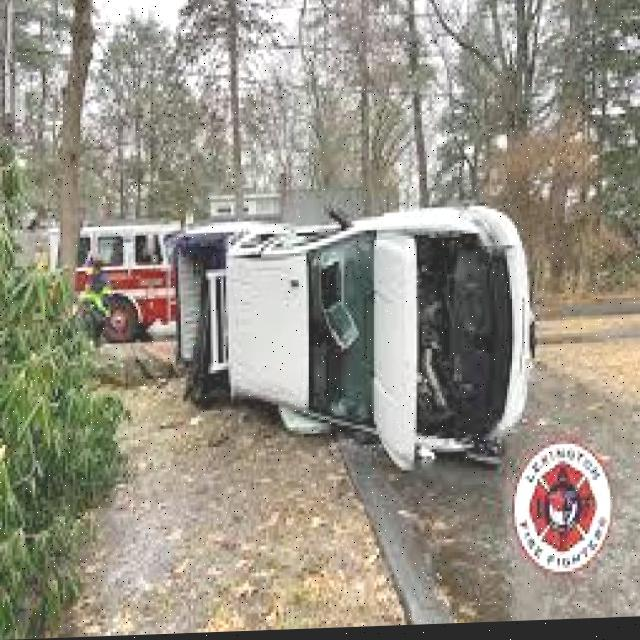single accident: (147, 196, 546, 463)
